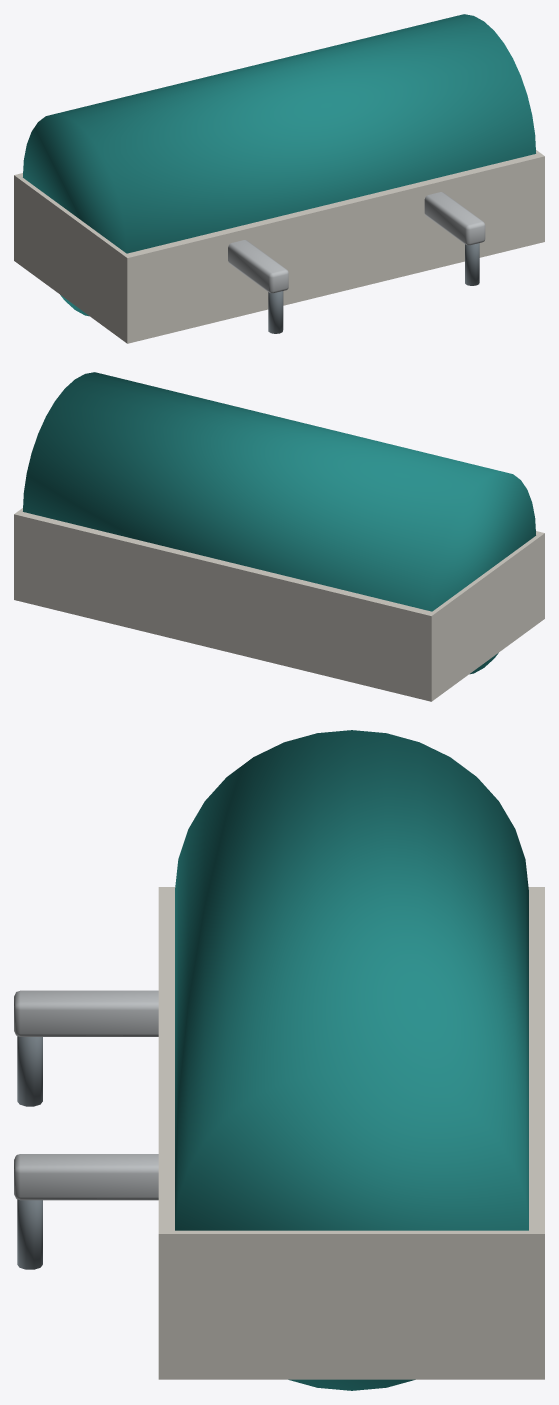
The model's file is terminal.glb.
3 renders of one model, top to bottom at view 1: azimuth 30°, elevation 25°; view 2: azimuth 150°, elevation 25°; view 3: azimuth 270°, elevation 25°, orthographic. The views are drawn at different scales.
Visible parts, largest first — view 1: terminal; view 2: terminal; view 3: terminal.
Part boxes in pixels (<box>): terminal: <box>14,14,544,343</box>; terminal: <box>14,372,544,701</box>; terminal: <box>14,730,544,1390</box>.
Size of the model in its own units: 2.55 by 1.1 by 1.65.
